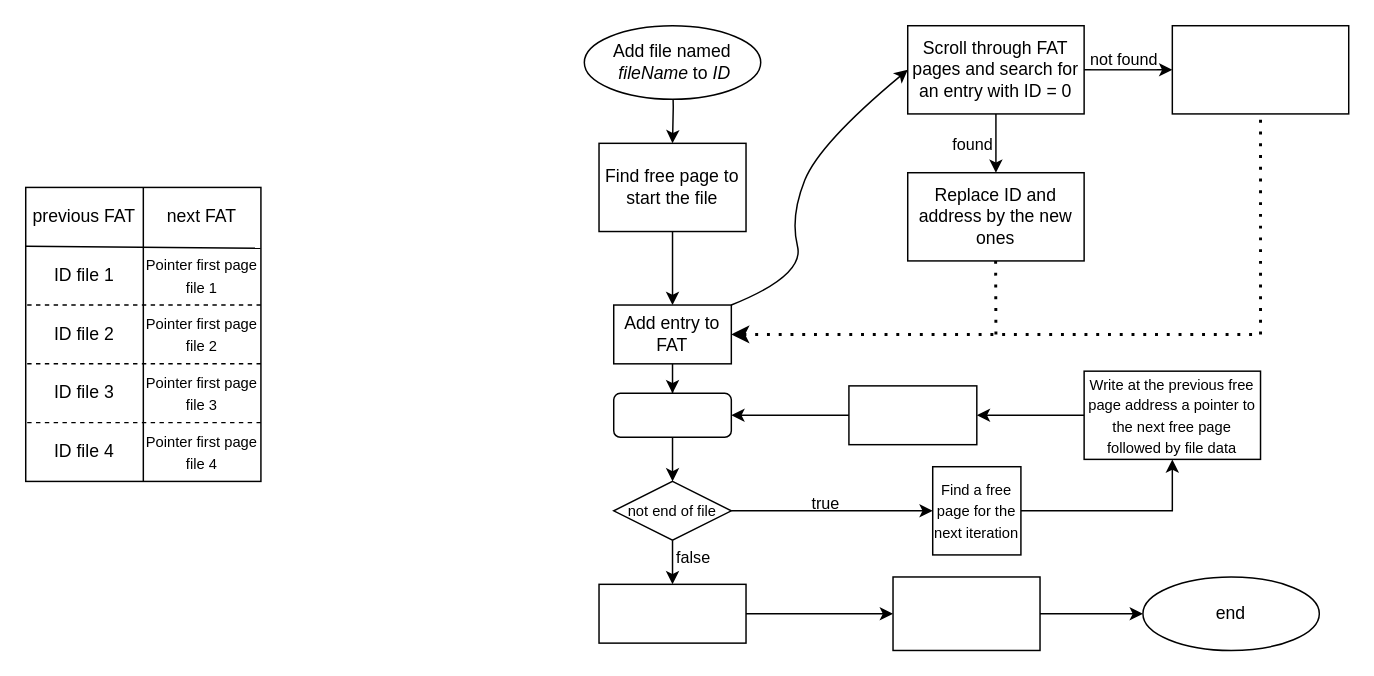
This 1374x676 diagram has some shape labels left out. The shapes that lost their labels are listed below. From the top down, each one's box as (x1, y1, x2, y2) in pixels, then its label:
(1171, 24, 1349, 114): Create new FAT page and set the ID and address as first entry
(612, 392, 731, 437): while
(847, 384, 977, 445): Mark current page as used in bitmap
(598, 583, 746, 643): Change next page pointer to 0
(892, 576, 1040, 650): Add a file terminator and padd the rest of the page
